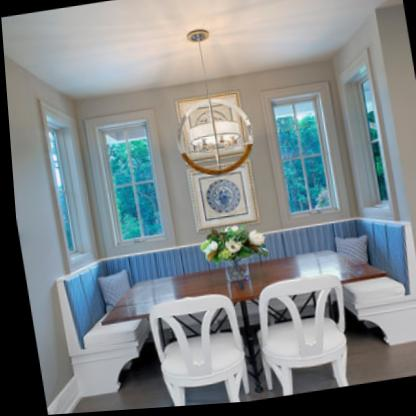Dining Table: (104, 250, 381, 411)
Window: (266, 93, 337, 226), (93, 119, 164, 251)
